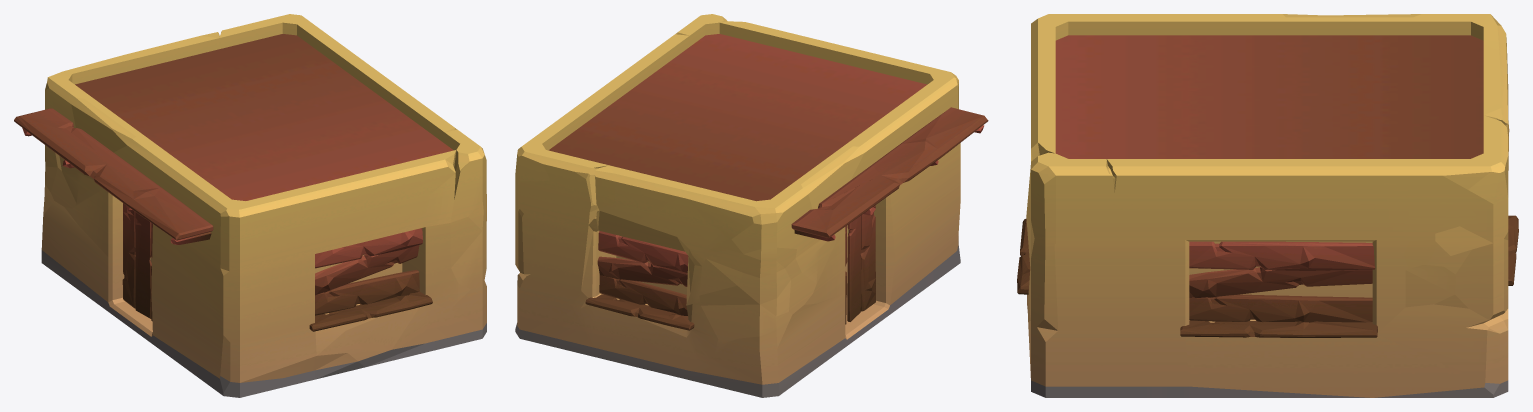
3 renders of one model, left to right at view 1: azimuth 30°, elevation 25°; view 2: azimuth 150°, elevation 25°; view 3: azimuth 270°, elevation 25°, orthographic. The views are drawn at different scales.
Visible parts, largest first — view 1: House2; view 2: House2; view 3: House2.
Boxes of the visible parts, x1,y1,x2,y2 form: House2: (14, 14, 486, 397); House2: (515, 14, 988, 397); House2: (1017, 14, 1518, 397).
Size of the model in its own units: 7.41 by 4.17 by 8.3.
Materials: 1 (1 with a texture image).
